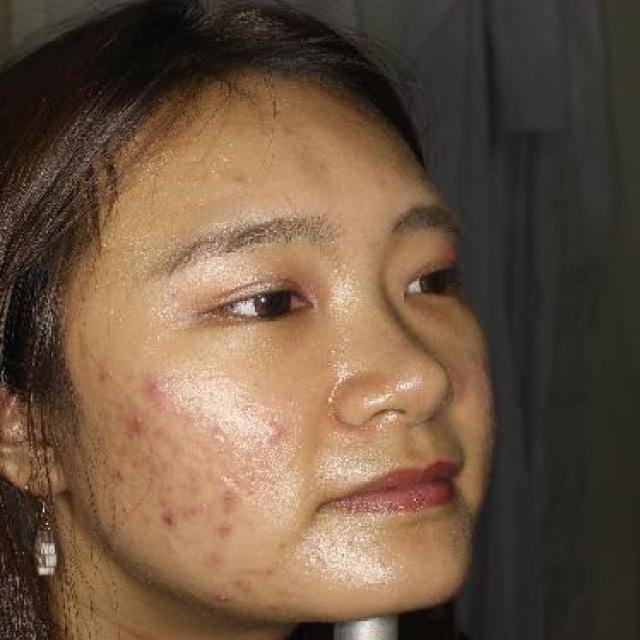blackheads: (160, 511, 182, 531)
papules: (116, 405, 154, 440), (132, 375, 168, 408)
pustules: (206, 589, 234, 608)
